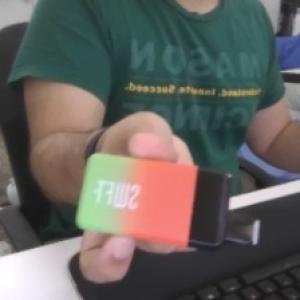Swift-E-Ciggirate: (71, 148, 265, 254)
